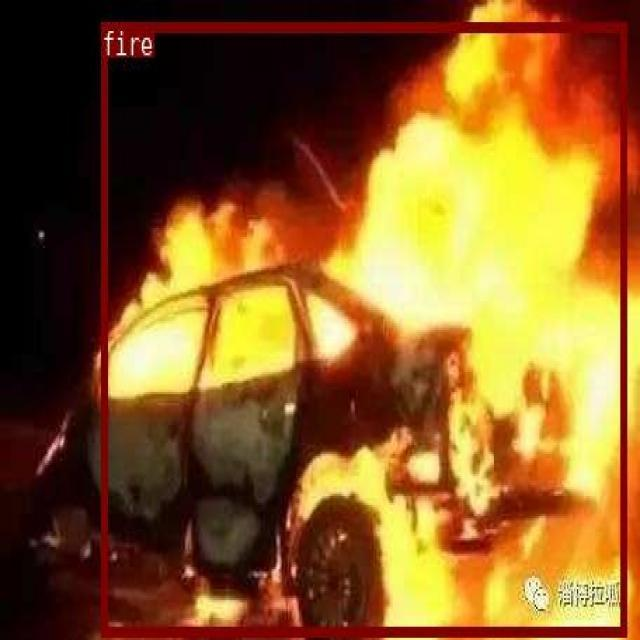fire: (100, 22, 625, 635)
